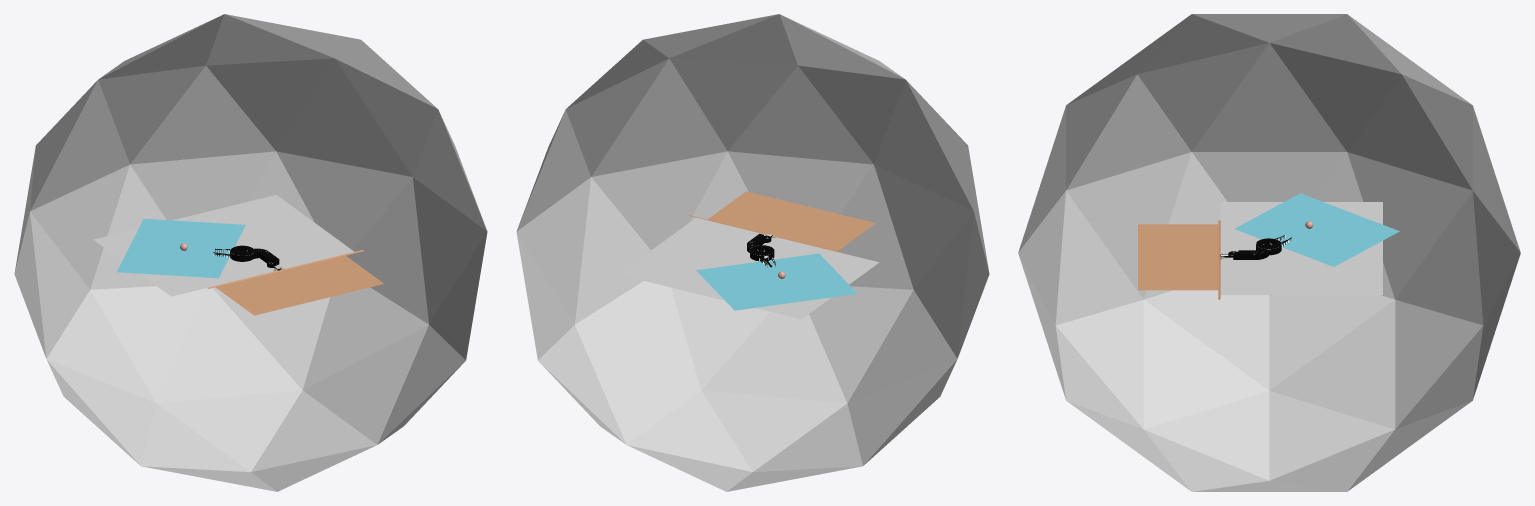
File: portfolio05.glb
The picture shows the model from 3 angles, left to right: view 1: azimuth 30°, elevation 25°; view 2: azimuth 150°, elevation 25°; view 3: azimuth 270°, elevation 25°; orthographic projection. The views are drawn at different scales.
Visible parts, largest first — view 1: skySphere, Plane.004, Plane, Plane.002; view 2: skySphere, Plane.004, Plane, Plane.002; view 3: skySphere, Plane.004, Plane, Plane.002.
Part boxes in pixels (x1,y1,x2,y2): skySphere: [14, 14, 487, 491]; Plane.004: [93, 195, 354, 296]; Plane: [117, 218, 245, 278]; Plane.002: [216, 255, 383, 315]; skySphere: [516, 14, 989, 491]; Plane.004: [618, 217, 878, 319]; Plane: [696, 253, 857, 310]; Plane.002: [707, 191, 875, 251]; skySphere: [1018, 14, 1520, 491]; Plane.004: [1220, 202, 1382, 294]; Plane: [1234, 193, 1399, 266]; Plane.002: [1138, 224, 1218, 290].
Bounding box in the file's own units: 1134 × 1193 × 1193.
